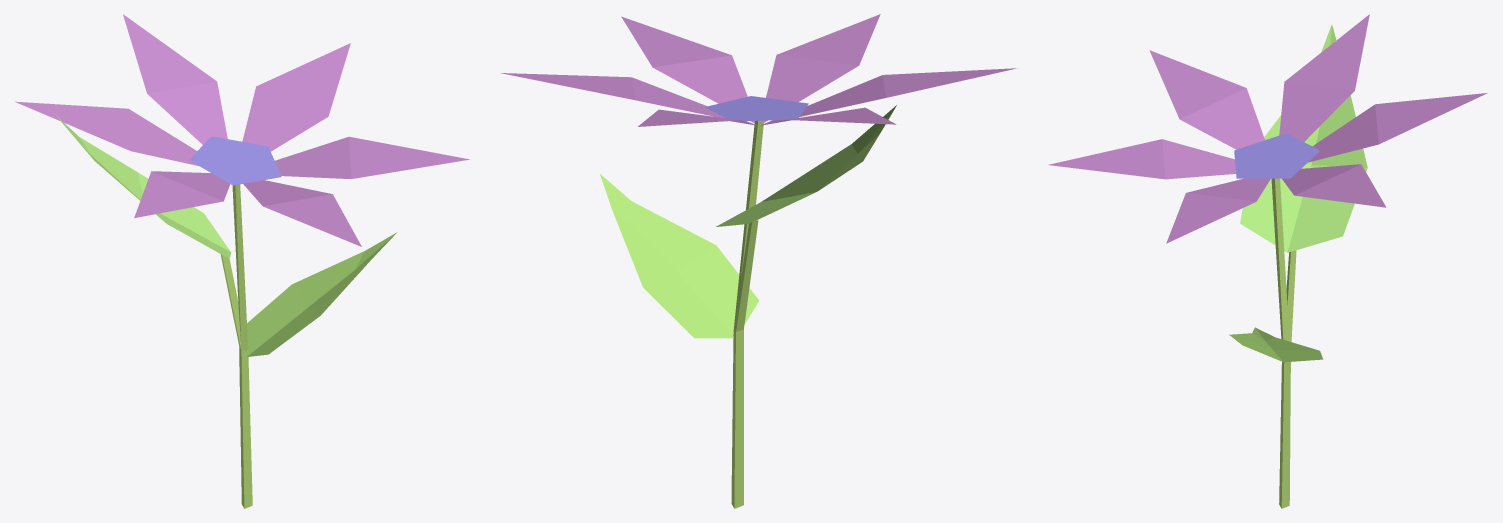
File: Flower_b_OneS_07.fbx
3 views of the same model, side by side, from view 1: azimuth 30°, elevation 25°; view 2: azimuth 150°, elevation 25°; view 3: azimuth 270°, elevation 25° (orthographic). The views are drawn at different scales.
Parts seen in each view (by area): view 1: Flower_b_OneS_07; view 2: Flower_b_OneS_07; view 3: Flower_b_OneS_07.
Part boxes in pixels (x1,y1,x2,y2): Flower_b_OneS_07: [15, 14, 469, 508]; Flower_b_OneS_07: [500, 14, 1018, 508]; Flower_b_OneS_07: [1048, 14, 1487, 508].
Bounding box in the file's own units: 0.3463 × 0.3952 × 0.3898.
